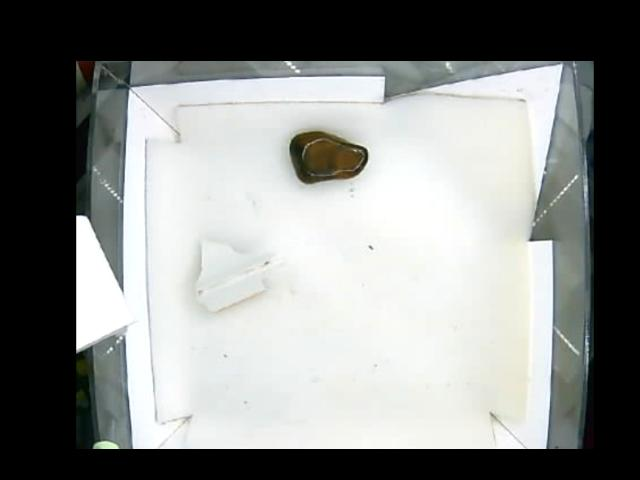China: (192, 238, 284, 308)
Pebble: (287, 130, 368, 184)
